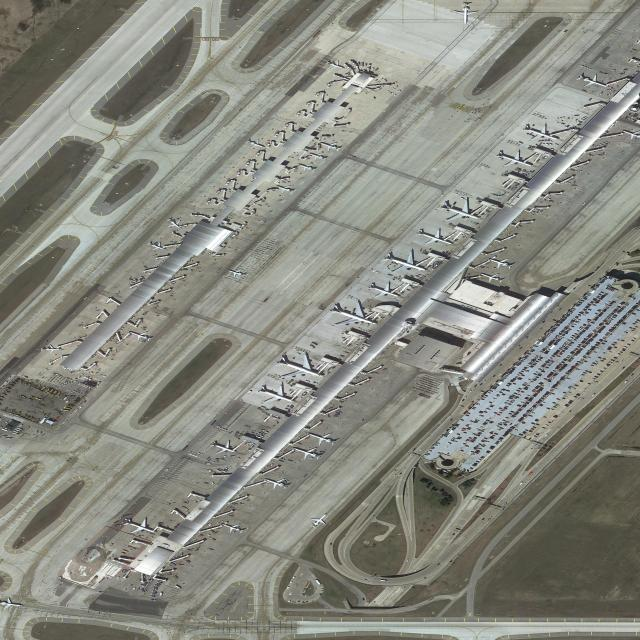large-vehicle: (63, 396, 69, 400), (256, 436, 263, 439), (62, 420, 67, 424), (4, 380, 9, 384), (74, 409, 79, 413), (380, 580, 388, 582), (88, 378, 93, 381), (488, 517, 493, 520), (528, 472, 533, 475), (63, 367, 67, 370), (65, 400, 69, 403), (79, 406, 83, 409), (97, 381, 101, 384), (86, 377, 90, 380), (520, 482, 524, 485), (545, 434, 549, 437), (592, 393, 596, 396), (624, 380, 628, 383), (132, 281, 137, 283), (171, 281, 176, 283), (260, 435, 265, 437), (604, 73, 609, 75), (59, 576, 62, 579), (84, 376, 87, 379), (499, 500, 502, 503), (208, 524, 212, 526), (6, 422, 9, 424)
plane: (264, 349, 337, 389), (318, 297, 390, 337), (373, 246, 439, 282), (430, 195, 490, 231), (247, 380, 304, 411), (410, 225, 461, 252), (489, 147, 541, 173), (516, 121, 566, 148), (116, 515, 164, 540), (361, 279, 407, 304), (300, 426, 343, 449), (572, 71, 616, 93), (286, 442, 328, 463), (204, 438, 243, 459), (483, 253, 518, 272), (258, 474, 293, 492), (215, 518, 248, 536), (304, 511, 335, 530), (475, 269, 508, 286), (123, 327, 156, 344), (453, 4, 478, 25), (314, 138, 346, 154), (0, 596, 25, 612), (143, 240, 171, 254), (304, 149, 331, 163), (322, 59, 349, 73), (223, 265, 249, 279), (271, 182, 297, 196), (293, 160, 319, 174), (163, 217, 187, 232), (243, 138, 269, 151), (40, 345, 62, 355)
small-vehicle: (611, 327, 616, 330), (633, 305, 638, 308), (632, 306, 637, 309), (628, 310, 633, 313), (592, 330, 597, 333), (593, 329, 598, 332), (608, 346, 613, 349), (592, 362, 597, 365), (608, 361, 613, 364), (623, 346, 628, 349), (624, 331, 629, 334), (566, 339, 571, 342), (600, 291, 605, 294), (252, 443, 257, 446), (572, 318, 577, 321), (580, 326, 585, 329), (570, 341, 575, 344), (584, 306, 589, 309), (497, 439, 502, 442), (524, 402, 529, 405), (517, 404, 522, 407), (531, 422, 536, 425), (519, 433, 524, 436), (472, 464, 477, 467), (471, 433, 476, 436), (447, 442, 452, 445), (490, 446, 495, 449), (457, 436, 462, 439), (529, 397, 534, 400), (546, 391, 551, 394), (565, 372, 570, 375), (507, 382, 512, 385), (518, 372, 523, 375), (531, 359, 536, 362), (576, 368, 581, 371), (455, 423, 460, 426), (521, 358, 526, 361), (535, 355, 540, 358), (613, 326, 617, 329), (612, 343, 616, 346), (627, 343, 631, 346), (621, 339, 625, 342), (625, 303, 629, 306), (619, 303, 623, 306), (613, 315, 617, 318), (597, 326, 601, 329), (614, 346, 618, 349), (591, 346, 595, 349), (590, 348, 594, 351), (607, 348, 611, 351), (567, 355, 571, 358), (590, 364, 594, 367), (589, 349, 593, 352), (607, 363, 611, 366), (556, 335, 560, 338), (553, 338, 557, 341), (563, 343, 567, 346), (549, 357, 553, 360), (577, 121, 583, 123), (546, 143, 550, 146), (598, 293, 602, 296), (275, 421, 279, 424), (35, 410, 39, 413), (210, 252, 214, 255), (554, 326, 558, 329), (595, 301, 599, 304), (559, 332, 563, 335), (585, 311, 589, 314), (587, 303, 591, 306), (551, 329, 555, 332), (587, 324, 591, 327), (583, 323, 587, 326), (621, 302, 625, 305), (496, 425, 500, 428), (522, 421, 526, 424), (526, 401, 530, 404), (536, 423, 540, 426), (523, 436, 527, 439), (407, 341, 411, 344), (479, 383, 483, 386), (474, 384, 478, 387), (393, 474, 397, 477), (558, 308, 562, 311), (529, 408, 533, 411), (454, 440, 458, 443), (425, 453, 431, 455), (436, 442, 440, 445), (419, 449, 423, 452), (548, 421, 552, 424), (530, 407, 534, 410), (482, 439, 486, 442), (528, 399, 532, 402), (510, 395, 514, 398), (514, 392, 518, 395), (546, 407, 550, 410), (568, 369, 572, 372), (553, 384, 557, 387), (492, 387, 496, 390), (545, 366, 549, 369), (555, 372, 559, 375), (546, 376, 550, 379), (551, 360, 555, 363), (502, 393, 506, 396), (501, 389, 505, 392), (551, 376, 555, 379), (572, 387, 576, 390), (538, 389, 542, 392), (532, 390, 536, 393), (523, 383, 527, 386), (597, 331, 602, 333), (608, 330, 613, 332), (596, 342, 601, 344), (599, 339, 604, 341), (588, 340, 593, 342), (589, 339, 594, 341), (594, 334, 599, 336), (609, 329, 614, 331), (632, 328, 637, 330), (601, 343, 606, 345), (595, 343, 600, 345), (601, 321, 606, 323), (605, 317, 610, 319), (606, 316, 611, 318), (575, 316, 580, 318), (625, 302, 630, 304), (583, 338, 588, 340), (608, 320, 613, 322), (606, 332, 611, 334), (620, 318, 625, 320), (625, 313, 630, 315), (630, 309, 635, 311), (616, 312, 621, 314), (576, 351, 581, 353), (582, 356, 587, 358), (600, 360, 605, 362), (547, 344, 552, 346), (578, 344, 583, 346), (587, 350, 592, 352), (610, 359, 615, 361), (593, 351, 598, 353), (617, 353, 622, 355), (634, 321, 639, 323), (622, 348, 627, 350), (613, 342, 618, 344), (583, 345, 588, 347), (573, 349, 578, 351), (613, 357, 618, 359), (559, 337, 564, 339), (559, 347, 564, 349), (568, 343, 573, 345), (556, 355, 561, 357), (582, 118, 587, 120), (580, 119, 585, 121), (564, 126, 569, 128), (554, 144, 559, 146), (256, 432, 261, 434), (550, 148, 555, 150), (543, 156, 548, 158), (357, 289, 362, 291), (296, 353, 301, 355), (302, 394, 307, 396), (578, 302, 583, 304), (593, 298, 598, 300), (260, 432, 265, 434), (222, 456, 227, 458), (563, 328, 568, 330), (594, 313, 599, 315), (570, 310, 575, 312), (569, 322, 574, 324), (575, 321, 580, 323), (579, 328, 584, 330), (582, 325, 587, 327), (572, 324, 577, 326), (604, 293, 609, 295), (574, 322, 579, 324), (571, 319, 576, 321), (592, 304, 597, 306), (590, 322, 595, 324), (593, 319, 598, 321), (587, 319, 592, 321), (612, 301, 617, 303), (501, 436, 506, 438), (475, 420, 480, 422), (462, 428, 467, 430), (472, 407, 477, 409), (492, 398, 497, 400), (487, 392, 492, 394), (554, 415, 559, 417), (553, 416, 558, 418), (490, 431, 495, 433), (520, 406, 525, 408), (516, 406, 521, 408), (490, 405, 495, 407), (486, 408, 491, 410), (499, 427, 504, 429), (510, 411, 515, 413), (512, 415, 517, 417), (508, 397, 513, 399), (498, 408, 503, 410), (497, 423, 502, 425), (504, 433, 509, 435), (507, 430, 512, 432), (523, 414, 528, 416), (508, 429, 513, 431), (499, 437, 504, 439), (408, 341, 413, 343), (459, 358, 464, 360), (476, 450, 481, 452), (475, 451, 480, 453), (474, 452, 479, 454), (469, 467, 474, 469), (424, 332, 429, 334), (556, 398, 561, 400), (482, 444, 487, 446), (485, 441, 490, 443), (465, 440, 470, 442), (428, 450, 433, 452), (528, 415, 533, 417), (477, 459, 482, 461), (471, 439, 476, 441), (456, 433, 461, 435), (483, 422, 488, 424), (489, 437, 494, 439), (553, 343, 558, 345), (533, 378, 538, 380), (523, 388, 528, 390), (565, 404, 570, 406), (564, 405, 569, 407), (579, 380, 584, 382), (561, 377, 566, 379), (547, 380, 552, 382), (518, 377, 523, 379), (537, 374, 542, 376), (527, 353, 532, 355), (531, 349, 536, 351), (543, 378, 548, 380), (549, 373, 554, 375), (550, 372, 555, 374), (560, 367, 565, 369), (563, 365, 568, 367), (545, 361, 550, 363), (532, 364, 537, 366), (490, 436, 495, 438), (539, 398, 544, 400), (536, 402, 541, 404), (566, 372, 571, 374), (566, 378, 571, 380), (489, 432, 494, 434), (465, 414, 470, 416), (479, 411, 484, 413), (489, 405, 494, 407), (488, 401, 493, 403), (480, 398, 485, 400), (550, 409, 555, 411), (555, 404, 560, 406), (551, 375, 556, 377), (507, 373, 512, 375), (516, 374, 521, 376), (512, 367, 517, 369), (518, 361, 523, 363), (530, 361, 535, 363), (540, 366, 545, 368), (538, 357, 543, 359), (610, 277, 613, 280), (612, 289, 615, 292), (633, 297, 636, 300), (631, 296, 634, 299), (571, 320, 574, 323), (529, 437, 532, 440), (464, 396, 467, 399), (462, 399, 465, 402), (525, 338, 528, 341), (622, 366, 625, 369), (573, 287, 576, 290), (462, 468, 465, 471), (511, 379, 514, 382), (563, 395, 566, 398), (470, 440, 474, 442), (593, 346, 597, 348), (595, 344, 599, 346), (585, 343, 589, 345), (586, 342, 590, 344), (590, 338, 594, 340), (592, 336, 596, 338), (599, 329, 603, 331), (600, 328, 604, 330), (602, 326, 606, 328), (606, 323, 610, 325), (614, 314, 618, 316), (578, 334, 582, 336), (594, 345, 598, 347), (536, 433, 540, 435), (636, 303, 640, 305), (631, 340, 635, 342), (632, 323, 636, 325), (636, 319, 640, 321), (604, 340, 608, 342), (622, 323, 626, 325), (623, 322, 627, 324), (636, 309, 640, 311), (632, 313, 636, 315), (635, 305, 639, 307), (631, 308, 635, 310), (630, 310, 634, 312), (628, 311, 632, 313), (623, 316, 627, 318), (622, 317, 626, 319), (620, 319, 624, 321), (619, 320, 623, 322), (618, 321, 622, 323), (617, 322, 621, 324), (598, 340, 602, 342), (593, 335, 597, 337), (623, 306, 627, 308), (605, 324, 609, 326), (608, 315, 612, 317), (608, 314, 612, 316), (612, 312, 616, 314), (615, 308, 619, 310), (616, 307, 620, 309), (622, 307, 626, 309), (624, 305, 628, 307), (574, 338, 578, 340), (558, 334, 562, 336), (581, 341, 585, 343), (582, 340, 586, 342), (587, 336, 591, 338), (588, 335, 592, 337), (589, 334, 593, 336), (599, 324, 603, 326), (607, 322, 611, 324), (607, 321, 611, 323), (610, 318, 614, 320), (614, 325, 618, 327), (613, 326, 617, 328), (625, 314, 629, 316), (626, 312, 630, 314), (616, 313, 620, 315), (591, 337, 595, 339), (596, 332, 600, 334), (580, 342, 584, 344), (585, 338, 589, 340), (586, 337, 590, 339), (590, 333, 594, 335), (608, 347, 612, 349), (586, 352, 590, 354), (570, 352, 574, 354), (571, 351, 575, 353), (576, 352, 580, 354), (580, 348, 584, 350), (582, 346, 586, 348), (587, 351, 591, 353), (585, 353, 589, 355), (572, 366, 576, 368), (575, 364, 579, 366), (576, 363, 580, 365), (577, 361, 581, 363), (584, 360, 588, 362), (598, 357, 602, 359), (602, 358, 606, 360), (585, 370, 589, 372), (588, 371, 592, 373), (597, 373, 601, 375), (568, 359, 572, 361), (564, 358, 568, 360), (563, 359, 567, 361), (549, 342, 553, 344), (548, 343, 552, 345), (543, 348, 547, 350), (542, 349, 546, 351), (546, 350, 550, 352), (544, 352, 548, 354), (551, 355, 555, 357), (554, 353, 558, 355), (555, 352, 559, 354), (556, 351, 560, 353), (559, 348, 563, 350), (568, 344, 572, 346), (564, 347, 568, 349), (562, 350, 566, 352), (578, 345, 582, 347), (577, 346, 581, 348), (575, 348, 579, 350), (561, 361, 565, 363), (571, 357, 575, 359), (567, 360, 571, 362), (600, 370, 604, 372), (606, 365, 610, 367), (603, 352, 607, 354), (579, 349, 583, 351), (573, 365, 577, 367), (583, 355, 587, 357), (587, 357, 591, 359), (609, 351, 613, 353), (620, 351, 624, 353), (617, 339, 621, 341), (633, 338, 637, 340), (631, 330, 635, 332), (635, 326, 639, 328), (629, 327, 633, 329), (622, 349, 626, 351), (581, 347, 585, 349), (573, 350, 577, 352), (546, 334, 550, 336), (558, 338, 562, 340), (555, 341, 559, 343), (540, 351, 544, 353), (541, 350, 545, 352), (545, 346, 549, 348), (544, 347, 548, 349), (548, 349, 552, 351), (562, 344, 566, 346), (565, 341, 569, 343), (561, 351, 565, 353), (560, 362, 564, 364), (600, 323, 604, 325), (603, 320, 607, 322), (604, 319, 608, 321), (549, 143, 553, 145), (601, 280, 605, 282), (603, 278, 607, 280), (464, 234, 468, 236), (418, 274, 422, 276), (356, 277, 360, 279), (381, 317, 385, 319), (303, 393, 307, 395), (301, 395, 305, 397), (600, 281, 604, 283), (567, 313, 571, 315), (569, 311, 573, 313), (572, 308, 576, 310), (576, 304, 580, 306), (581, 300, 585, 302), (583, 298, 587, 300), (584, 297, 588, 299), (599, 298, 603, 300), (600, 297, 604, 299), (601, 296, 605, 298), (602, 295, 606, 297), (608, 284, 612, 286), (595, 286, 599, 288), (599, 282, 603, 284), (265, 431, 269, 433), (290, 157, 294, 159), (251, 445, 255, 447), (250, 446, 254, 448), (247, 449, 251, 451), (190, 269, 194, 271), (562, 318, 566, 320), (559, 321, 563, 323), (568, 313, 572, 315), (569, 323, 573, 325), (568, 323, 572, 325), (566, 325, 570, 327), (562, 329, 566, 331), (560, 332, 564, 334), (547, 333, 551, 335), (549, 332, 553, 334), (563, 318, 567, 320), (582, 314, 586, 316), (572, 335, 576, 337), (575, 305, 579, 307), (598, 309, 602, 311), (604, 303, 608, 305), (607, 301, 611, 303), (598, 299, 602, 301), (591, 301, 595, 303), (578, 303, 582, 305), (584, 296, 588, 298), (587, 294, 591, 296), (587, 293, 591, 295), (577, 319, 581, 321), (613, 311, 617, 313), (613, 310, 617, 312), (566, 330, 570, 332), (617, 306, 621, 308), (576, 330, 580, 332), (569, 337, 573, 339), (586, 321, 590, 323), (591, 321, 595, 323), (592, 320, 596, 322), (601, 312, 605, 314), (601, 311, 605, 313), (605, 308, 609, 310), (606, 307, 610, 309), (610, 302, 614, 304), (609, 304, 613, 306), (574, 333, 578, 335), (558, 322, 562, 324), (561, 331, 565, 333), (564, 327, 568, 329), (565, 326, 569, 328), (578, 314, 582, 316), (579, 312, 583, 314), (596, 300, 600, 302), (597, 300, 601, 302), (558, 339, 562, 341), (588, 309, 592, 311), (582, 309, 586, 311), (583, 308, 587, 310), (586, 306, 590, 308), (593, 299, 597, 301), (542, 338, 546, 340), (553, 328, 557, 330), (556, 325, 560, 327), (556, 324, 560, 326), (564, 332, 568, 334), (565, 331, 569, 333), (571, 325, 575, 327), (568, 328, 572, 330), (562, 334, 566, 336), (575, 337, 579, 339), (576, 336, 580, 338), (580, 332, 584, 334), (585, 326, 589, 328), (594, 318, 598, 320), (598, 315, 602, 317), (602, 310, 606, 312), (597, 310, 601, 312), (609, 303, 613, 305), (622, 301, 626, 303), (550, 341, 554, 343), (552, 340, 556, 342), (466, 424, 470, 426), (497, 429, 501, 431), (498, 438, 502, 440), (503, 435, 507, 437), (491, 435, 495, 437), (488, 433, 492, 435), (468, 427, 472, 429), (479, 426, 483, 428), (476, 429, 480, 431), (482, 429, 486, 431), (465, 425, 469, 427), (476, 403, 480, 405), (496, 394, 500, 396), (495, 395, 499, 397), (482, 397, 486, 399), (503, 425, 507, 427), (499, 422, 503, 424), (488, 418, 492, 420), (517, 421, 521, 423), (513, 414, 517, 416), (517, 410, 521, 412), (518, 409, 522, 411), (519, 408, 523, 410), (520, 407, 524, 409), (501, 410, 505, 412), (502, 409, 506, 411), (503, 408, 507, 410), (505, 406, 509, 408), (520, 402, 524, 404), (512, 399, 516, 401), (506, 400, 510, 402), (504, 402, 508, 404), (499, 412, 503, 414), (484, 421, 488, 423), (518, 420, 522, 422), (506, 421, 510, 423), (505, 417, 509, 419), (497, 414, 501, 416), (542, 427, 546, 429), (535, 419, 539, 421), (525, 413, 529, 415), (494, 433, 498, 435), (508, 413, 512, 415), (511, 416, 515, 418), (514, 413, 518, 415), (516, 411, 520, 413), (522, 406, 526, 408), (523, 404, 527, 406), (504, 407, 508, 409), (508, 403, 512, 405), (489, 390, 493, 392), (493, 412, 497, 414), (502, 419, 506, 421), (490, 421, 494, 423), (486, 419, 490, 421), (505, 431, 509, 433), (506, 431, 510, 433), (531, 428, 535, 430), (529, 430, 533, 432), (525, 429, 529, 431), (523, 431, 527, 433), (522, 432, 526, 434), (534, 435, 538, 437), (535, 434, 539, 436), (533, 405, 537, 407), (532, 406, 536, 408), (528, 409, 532, 411), (527, 410, 531, 412), (526, 411, 530, 413), (522, 415, 526, 417), (520, 418, 524, 420), (519, 419, 523, 421), (509, 423, 513, 425), (511, 426, 515, 428), (510, 427, 514, 429), (531, 412, 535, 414), (410, 340, 414, 342), (399, 350, 403, 352), (461, 356, 465, 358), (486, 451, 490, 453), (449, 419, 453, 421), (473, 464, 477, 466), (474, 463, 478, 465), (480, 457, 484, 459), (539, 328, 543, 330), (528, 431, 532, 433), (556, 427, 560, 429), (363, 579, 367, 581), (481, 456, 485, 458), (487, 450, 491, 452), (472, 438, 476, 440), (430, 448, 434, 450), (432, 447, 436, 449), (434, 444, 438, 446), (489, 448, 493, 450), (453, 427, 457, 429), (543, 416, 547, 418), (545, 425, 549, 427), (514, 429, 518, 431), (521, 423, 525, 425), (531, 407, 535, 409), (478, 448, 482, 450), (495, 442, 499, 444), (494, 443, 498, 445), (491, 445, 495, 447), (496, 441, 500, 443), (481, 445, 485, 447), (475, 446, 479, 448), (476, 445, 480, 447), (478, 443, 482, 445), (481, 440, 485, 442), (484, 437, 488, 439), (476, 434, 480, 436), (474, 437, 478, 439), (468, 437, 472, 439), (466, 439, 470, 441), (463, 443, 467, 445), (465, 445, 469, 447), (460, 450, 464, 452), (463, 432, 467, 434), (476, 461, 480, 463), (537, 385, 541, 387), (544, 393, 548, 395), (541, 397, 545, 399), (539, 399, 543, 401), (540, 387, 544, 389), (539, 388, 543, 390), (536, 391, 540, 393), (534, 394, 538, 396), (529, 399, 533, 401), (534, 387, 538, 389), (536, 386, 540, 388), (535, 376, 539, 378), (532, 379, 536, 381), (525, 387, 529, 389), (525, 397, 529, 399), (525, 398, 529, 400), (515, 396, 519, 398), (516, 390, 520, 392), (518, 388, 522, 390), (522, 384, 526, 386), (539, 383, 543, 385), (551, 387, 555, 389), (552, 386, 556, 388), (569, 401, 573, 403), (568, 402, 572, 404), (553, 406, 557, 408), (539, 405, 543, 407), (540, 404, 544, 406), (575, 385, 579, 387), (581, 374, 585, 376), (594, 376, 598, 378), (583, 372, 587, 374), (569, 369, 573, 371), (567, 371, 571, 373), (560, 378, 564, 380), (556, 382, 560, 384), (540, 382, 544, 384), (574, 396, 578, 398), (496, 384, 500, 386), (521, 374, 525, 376), (517, 378, 521, 380), (513, 378, 517, 380), (512, 379, 516, 381), (513, 383, 517, 385), (506, 385, 510, 387), (502, 388, 506, 390), (506, 390, 510, 392), (499, 391, 503, 393), (508, 372, 512, 374), (510, 370, 514, 372), (511, 369, 515, 371), (512, 368, 516, 370), (517, 364, 521, 366), (523, 357, 527, 359), (530, 350, 534, 352), (541, 339, 545, 341), (555, 342, 559, 344), (520, 370, 524, 372), (522, 369, 526, 371), (524, 367, 528, 369), (538, 373, 542, 375), (547, 376, 551, 378), (555, 367, 559, 369), (556, 366, 560, 368), (559, 363, 563, 365), (554, 373, 558, 375), (559, 369, 563, 371), (533, 373, 537, 375), (538, 368, 542, 370), (542, 365, 546, 367), (529, 362, 533, 364), (538, 359, 542, 361), (531, 365, 535, 367), (529, 366, 533, 368), (570, 400, 574, 402), (576, 394, 580, 396), (560, 368, 564, 370), (563, 375, 567, 377), (562, 376, 566, 378), (559, 379, 563, 381), (558, 380, 562, 382), (557, 381, 561, 383), (542, 402, 546, 404), (542, 395, 546, 397), (541, 396, 545, 398), (537, 401, 541, 403), (535, 403, 539, 405), (557, 371, 561, 373), (557, 365, 561, 367), (558, 364, 562, 366), (562, 366, 566, 368), (554, 368, 558, 370), (550, 361, 554, 363), (548, 364, 552, 366), (547, 365, 551, 367), (530, 381, 534, 383), (571, 367, 575, 369), (480, 430, 484, 432), (478, 432, 482, 434), (477, 433, 481, 435), (474, 421, 478, 423), (473, 421, 477, 423), (460, 419, 464, 421), (467, 412, 471, 414), (480, 415, 484, 417), (484, 411, 488, 413), (554, 405, 558, 407), (579, 381, 583, 383), (527, 385, 531, 387), (577, 393, 581, 395), (525, 371, 529, 373), (526, 370, 530, 372), (523, 368, 527, 370), (515, 376, 519, 378), (514, 377, 518, 379), (510, 381, 514, 383), (507, 384, 511, 386), (493, 387, 497, 389), (494, 386, 498, 388), (495, 385, 499, 387), (506, 374, 510, 376), (517, 362, 521, 364), (520, 360, 524, 362), (524, 356, 528, 358), (526, 355, 530, 357), (568, 391, 572, 393), (568, 386, 572, 388), (592, 378, 596, 380), (587, 383, 591, 385), (552, 402, 556, 404), (526, 365, 530, 367), (528, 363, 532, 365), (550, 377, 554, 379), (537, 390, 541, 392), (535, 393, 539, 395), (532, 396, 536, 398), (533, 389, 537, 391), (527, 395, 531, 397), (521, 391, 525, 393), (517, 394, 521, 396), (524, 382, 528, 384), (527, 379, 531, 381), (535, 371, 539, 373), (543, 364, 547, 366), (544, 363, 548, 365), (545, 362, 549, 364), (533, 363, 537, 365), (539, 358, 543, 360), (535, 357, 539, 359), (534, 358, 538, 360), (605, 334, 608, 336), (602, 327, 605, 329), (619, 310, 622, 312), (621, 308, 624, 310), (599, 325, 602, 327), (577, 335, 580, 337), (616, 324, 619, 326), (624, 315, 627, 317), (602, 322, 605, 324), (605, 318, 608, 320), (562, 335, 565, 337), (606, 333, 609, 335), (599, 330, 602, 332), (617, 323, 620, 325), (620, 309, 623, 311), (574, 354, 577, 356), (575, 353, 578, 355), (578, 350, 581, 352), (603, 367, 606, 369), (545, 351, 548, 353), (557, 350, 560, 352), (564, 348, 567, 350), (559, 353, 562, 355), (570, 358, 573, 360), (595, 361, 598, 363), (566, 346, 569, 348), (560, 352, 563, 354), (553, 354, 556, 356), (602, 279, 605, 281), (605, 277, 608, 279), (608, 277, 611, 279), (597, 146, 600, 148), (341, 333, 344, 335), (607, 285, 610, 287), (606, 287, 609, 289), (607, 288, 610, 290), (610, 289, 613, 291), (609, 288, 612, 290), (208, 253, 211, 255), (590, 302, 593, 304), (615, 309, 618, 311), (597, 316, 600, 318), (562, 330, 565, 332), (575, 317, 578, 319), (604, 294, 607, 296), (574, 339, 577, 341), (582, 331, 585, 333), (583, 329, 586, 331), (596, 317, 599, 319), (599, 314, 602, 316), (600, 313, 603, 315), (604, 309, 607, 311), (551, 340, 554, 342), (472, 408, 475, 410), (475, 404, 478, 406), (510, 401, 513, 403), (516, 412, 519, 414), (535, 420, 538, 422), (489, 422, 492, 424), (521, 417, 524, 419), (522, 416, 525, 418), (469, 391, 472, 393), (520, 347, 523, 349), (499, 364, 502, 366), (398, 351, 401, 353), (483, 381, 486, 383), (493, 375, 496, 377), (464, 469, 466, 472), (467, 469, 469, 472), (454, 342, 457, 344), (371, 576, 374, 578), (437, 563, 440, 565), (423, 564, 426, 566), (406, 560, 409, 562), (631, 373, 634, 375), (452, 341, 455, 343), (438, 452, 441, 454), (425, 454, 428, 456), (452, 439, 455, 441), (471, 451, 474, 453), (447, 453, 450, 455), (533, 395, 536, 397), (548, 379, 551, 381), (552, 393, 555, 395), (571, 368, 574, 370), (556, 383, 559, 385), (555, 384, 558, 386), (510, 371, 513, 373), (516, 364, 519, 366), (535, 345, 538, 347), (549, 374, 552, 376), (548, 359, 551, 361), (533, 358, 536, 360), (558, 370, 561, 372), (553, 370, 556, 372), (470, 420, 473, 422), (467, 428, 470, 430), (479, 412, 482, 414), (485, 395, 488, 397), (565, 396, 568, 398), (568, 387, 571, 389), (549, 378, 552, 380), (531, 397, 534, 399), (547, 360, 550, 362), (231, 456, 236, 457), (523, 404, 528, 405), (612, 317, 616, 318), (586, 326, 590, 327), (583, 340, 587, 341), (591, 348, 595, 349), (566, 357, 570, 358), (564, 364, 568, 365), (554, 338, 558, 339), (564, 343, 568, 344), (584, 117, 588, 118), (542, 158, 546, 159), (596, 285, 600, 286), (566, 315, 570, 316), (577, 304, 581, 305), (597, 284, 601, 285), (561, 320, 565, 321), (115, 350, 117, 352), (45, 369, 49, 370), (611, 313, 615, 314), (550, 331, 554, 332), (596, 297, 600, 298), (597, 296, 601, 297), (584, 313, 588, 314), (578, 329, 582, 330), (608, 305, 612, 306), (510, 401, 514, 402), (504, 434, 508, 435), (504, 424, 508, 425), (533, 427, 537, 428), (403, 586, 405, 588), (450, 341, 452, 343), (452, 438, 456, 439), (461, 430, 465, 431), (452, 428, 456, 429), (562, 398, 566, 399), (563, 392, 567, 393), (543, 395, 547, 396), (549, 363, 553, 364), (530, 362, 534, 363), (618, 311, 621, 312), (610, 314, 613, 315), (596, 328, 599, 329), (564, 317, 567, 318), (565, 316, 568, 317), (579, 333, 582, 334), (501, 395, 504, 396), (514, 398, 517, 399), (457, 438, 460, 439), (546, 393, 549, 394), (536, 361, 539, 362)
